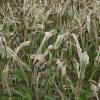Corn leaf blight: (7, 41, 30, 87), (74, 51, 90, 99), (34, 30, 56, 62), (73, 16, 86, 52), (71, 32, 83, 68), (3, 68, 11, 93), (61, 62, 66, 100), (32, 22, 47, 30)
